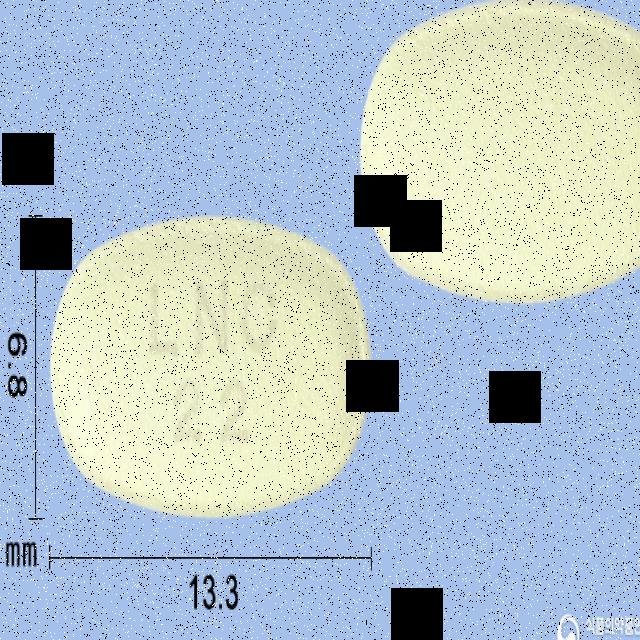Rithcinn Tab: (52, 215, 372, 518)
